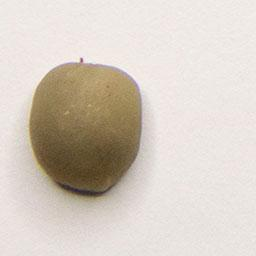premium: (26, 59, 145, 196)
